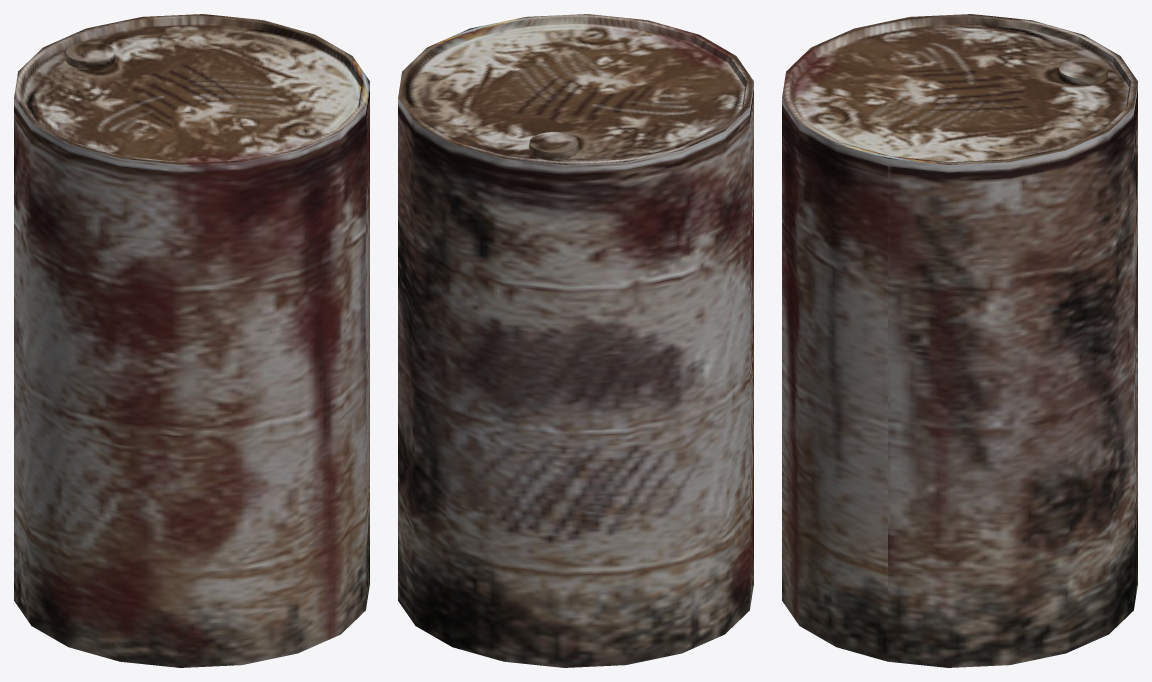
File: barell3.fbx
3 views of the same model, side by side, from view 1: azimuth 30°, elevation 25°; view 2: azimuth 150°, elevation 25°; view 3: azimuth 270°, elevation 25° (orthographic).
Visible parts, largest first — view 1: barell06; view 2: barell06; view 3: barell06.
Boxes of the visible parts, x1,y1,x2,y2 form: barell06: (14,14,369,667); barell06: (398,14,753,667); barell06: (782,14,1137,667).
Size of the model in its own units: 67.99 by 106 by 67.72.
